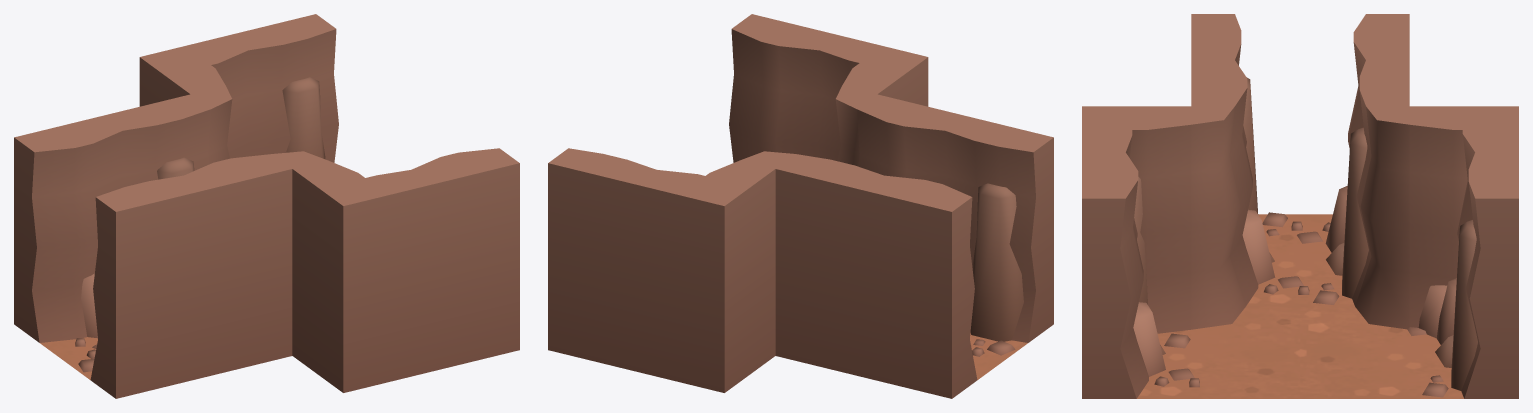
Rendered from corridor-transition.obj.
3 views of the same model, side by side, from view 1: azimuth 30°, elevation 25°; view 2: azimuth 150°, elevation 25°; view 3: azimuth 270°, elevation 25° (orthographic). The views are drawn at different scales.
Visible parts, largest first — view 1: corridor-transition; view 2: corridor-transition; view 3: corridor-transition.
Boxes of the visible parts, left/top/right/bottom form: corridor-transition: left=14, top=14, right=519, bottom=398; corridor-transition: left=548, top=14, right=1053, bottom=398; corridor-transition: left=1082, top=14, right=1518, bottom=398.
Size of the model in its own units: 8 by 4.05 by 8.
Materials: 1 (1 with a texture image).
